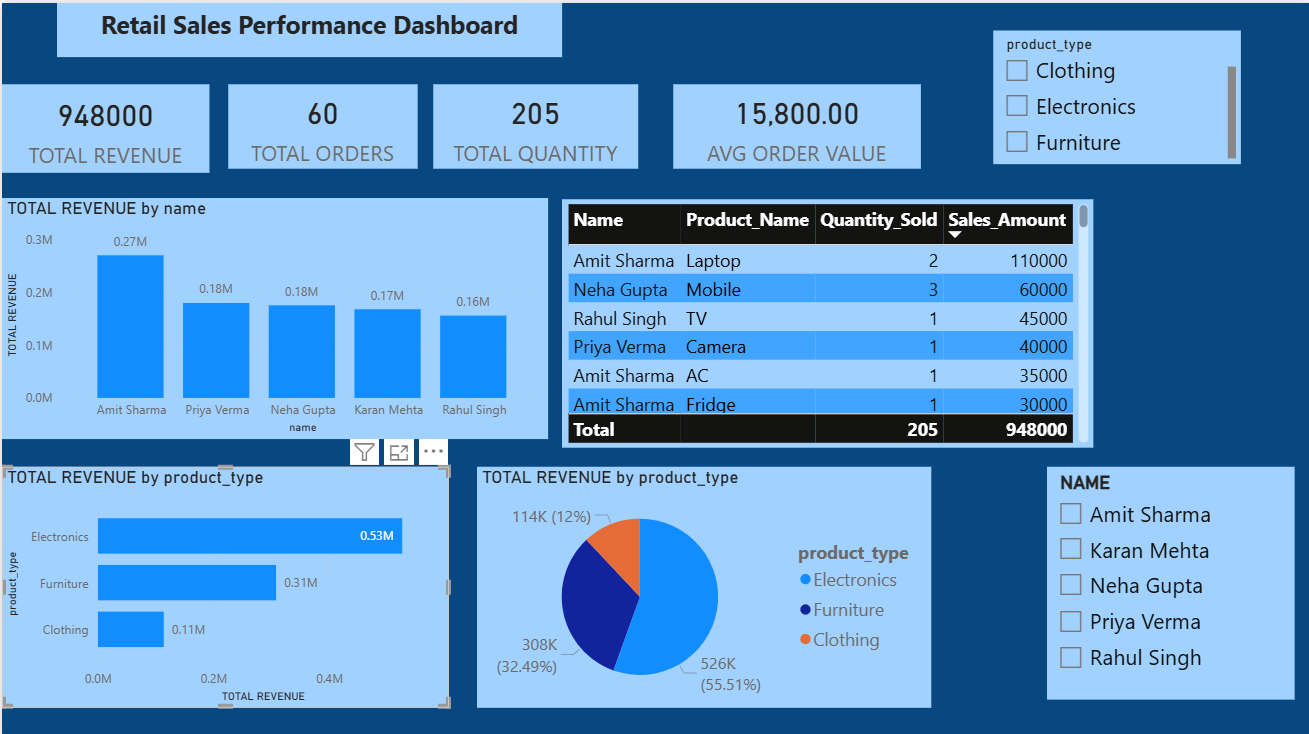

What the dashboard file says about the page in this screenshot:
{"tool":"powerbi","page":{"name":"Page 1","canvas":[1280,720],"ordinal":0},"visuals":[{"type":"card","fields":{"Values":["product_data.TOTAL REVENUE"]},"box":[0,79.4,202.1,86.6],"z":0},{"type":"card","fields":{"Values":["product_data.TOTAL ORDERS"]},"box":[220.6,79.4,184.5,82.5],"z":1000},{"type":"card","fields":{"Values":["product_data.TOTAL QUANTITY"]},"box":[420.6,79.4,200,82.5],"z":2000},{"type":"card","fields":{"Values":["product_data.AVG ORDER VALUE"]},"box":[654.6,79.4,241.2,82.5],"z":3000},{"type":"textbox","box":[53.7,0,492.7,52.4],"z":3001},{"type":"clusteredBarChart","fields":{"Category":["product_data.product_type"],"Y":["product_data.TOTAL REVENUE"]},"box":[0,452.6,436.1,235.1],"z":3002},{"type":"clusteredColumnChart","fields":{"Category":["product_data.name"],"Y":["product_data.TOTAL REVENUE"]},"box":[0,189.7,533,235.1],"z":3003},{"type":"pieChart","fields":{"Category":["product_data.product_type"],"Y":["product_data.TOTAL REVENUE"]},"box":[462.9,452.6,443.3,235.1],"z":3004},{"type":"tableEx","fields":{"Values":["product_data.name","product_data.product_name","Sum(product_data.quantity_sold)","Sum(product_data.sales_amount)"]},"box":[546.3,191.5,518.3,242.7],"z":3005},{"type":"slicer","fields":{"Values":["product_data.product_type"]},"box":[967.1,26.8,241.5,130.5],"z":3006},{"type":"slicer","fields":{"Values":["product_data.name"]},"box":[1019.5,452.4,241.5,226.8],"z":3007}]}

Visuals, with their boxes in screenshot pixels (x1, y1, x2, y2), scaled from the page's 1280x720 canvas onto the 1309x734 screenshot:
card - product_data.TOTAL REVENUE: <box>0,81,207,169</box>
card - product_data.TOTAL ORDERS: <box>226,81,414,165</box>
card - product_data.TOTAL QUANTITY: <box>430,81,635,165</box>
card - product_data.AVG ORDER VALUE: <box>669,81,916,165</box>
textbox: <box>55,0,559,53</box>
clusteredBarChart - product_data.product_type x product_data.TOTAL REVENUE: <box>0,461,446,701</box>
clusteredColumnChart - product_data.name x product_data.TOTAL REVENUE: <box>0,193,545,433</box>
pieChart - product_data.product_type x product_data.TOTAL REVENUE: <box>473,461,927,701</box>
tableEx - product_data.name x product_data.product_name: <box>559,195,1089,443</box>
slicer - product_data.product_type: <box>989,27,1236,160</box>
slicer - product_data.name: <box>1043,461,1290,692</box>
